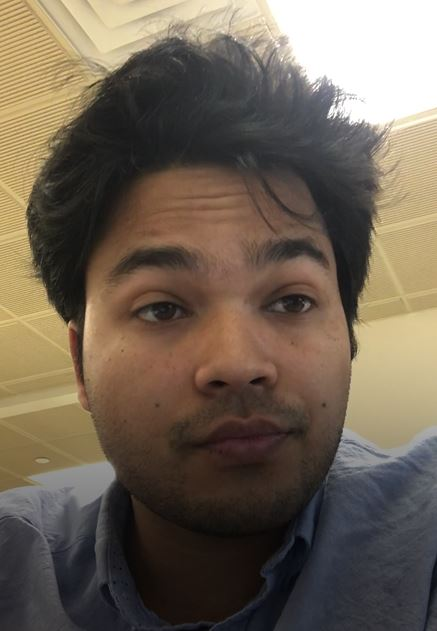Not Sleeping: (94, 277, 363, 335)
